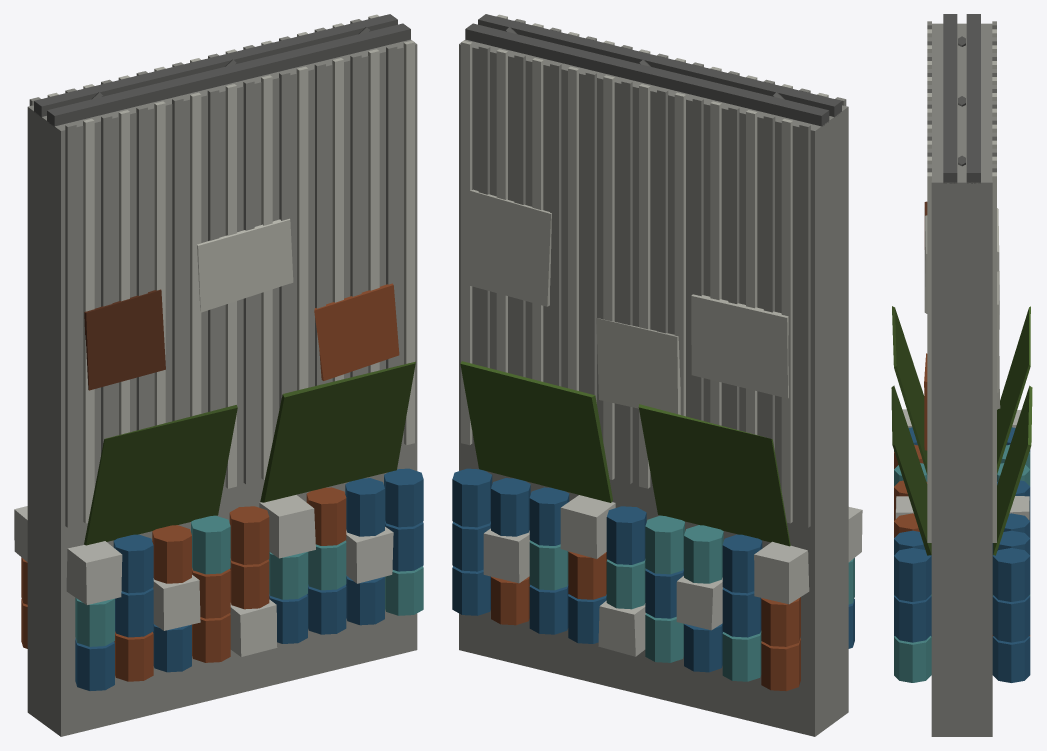
File: fort_cistern_wall.glb
The picture shows the model from 3 angles, left to right: view 1: azimuth 30°, elevation 25°; view 2: azimuth 150°, elevation 25°; view 3: azimuth 270°, elevation 25°; orthographic projection. The views are drawn at different scales.
Visible parts, largest first — view 1: fort_cistern_wall; view 2: fort_cistern_wall; view 3: fort_cistern_wall.
Boxes of the visible parts, left/top/right/bottom form: fort_cistern_wall: left=14, top=14, right=423, bottom=736; fort_cistern_wall: left=452, top=14, right=862, bottom=736; fort_cistern_wall: left=891, top=14, right=1032, bottom=736.
Bounding box in the file's own units: 8 × 13.28 × 3.
